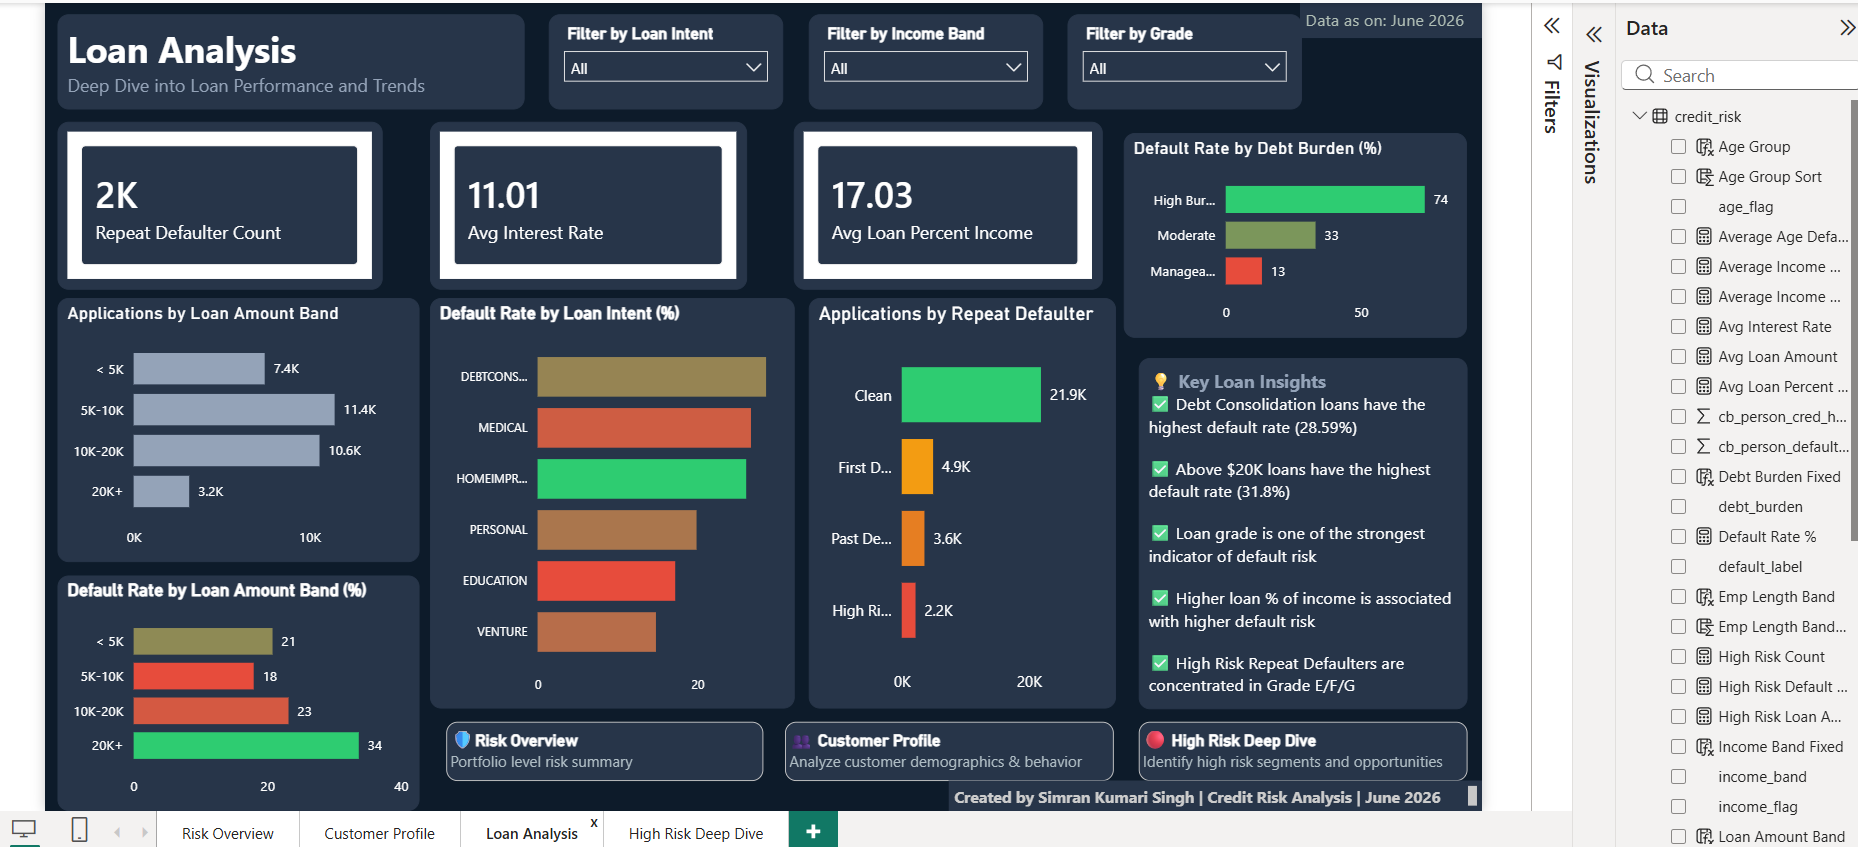

The page's visual inventory and layout, read from the dashboard file:
{"tool":"powerbi","page":{"name":"Loan Analysis","canvas":[1280,720],"ordinal":2},"visuals":[{"type":"textbox","box":[10.9,9.7,416.2,84.5],"z":0},{"type":"slicer","fields":{"Values":["credit_risk.loan_intent"]},"box":[448.8,9.7,208.7,84.5],"z":1000},{"type":"slicer","fields":{"Values":["credit_risk.Income Band Fixed"]},"box":[680.4,9.7,208.7,84.5],"z":2000},{"type":"slicer","fields":{"Values":["credit_risk.loan_grade"]},"box":[910.9,9.7,208.7,84.5],"z":3000},{"type":"cardVisual","fields":{"Data":["credit_risk.Avg Interest Rate"]},"box":[342.6,106.2,282.3,149.6],"z":4000},{"type":"cardVisual","fields":{"Data":["credit_risk.Avg Loan Percent Income"]},"box":[667.2,106.2,275.1,149.6],"z":5000},{"type":"cardVisual","fields":{"Data":["credit_risk.Repeat Defaulter Count"]},"box":[10.9,106.2,289.5,149.6],"z":6000},{"type":"clusteredBarChart","title":"Default Rate by Loan Intent (%)","fields":{"Category":["credit_risk.loan_intent"],"Y":["credit_risk.Default Rate %"]},"box":[342.6,263,324.5,365.6],"z":7000},{"type":"clusteredBarChart","title":"Applications by Loan Amount Band","fields":{"Category":["credit_risk.Loan Amount Band"],"Y":["credit_risk.Total Applications"]},"box":[10.9,263,322.1,235.3],"z":8000},{"type":"clusteredBarChart","title":"Default Rate by Loan Amount Band (%)","fields":{"Category":["credit_risk.Loan Amount Band"],"Y":["credit_risk.Default Rate %"]},"box":[10.9,510.3,322.1,209.9],"z":9000},{"type":"textbox","box":[973.6,316.1,293.2,312.5],"z":10000},{"type":"actionButton","title":"🛡️Risk Overview","box":[357.1,640.6,282.3,53.1],"z":11000},{"type":"actionButton","title":"🔴 High Risk Deep Dive","box":[973.6,640.6,293.2,53.1],"z":12000},{"type":"actionButton","title":"👥 Customer Profile","box":[658.7,640.6,293.2,53.1],"z":13000},{"type":"clusteredBarChart","title":"Default Rate by Debt Burden (%)","fields":{"Category":["credit_risk.Debt Burden Fixed"],"Y":["credit_risk.Default Rate %"]},"box":[960.3,115.8,305.2,182.2],"z":14000},{"type":"clusteredBarChart","title":"Applications by Repeat Defaulter","fields":{"Category":["credit_risk.repeat_defaulter"],"Y":["credit_risk.Total Applications"]},"box":[680.4,263,273.9,365.6],"z":15000},{"type":"textbox","box":[804.7,691.9,475.6,27.9],"z":16000},{"type":"textbox","box":[1117.2,0,162.9,31.4],"z":17000}]}

Visuals, with their boxes on the page's 1280x720 design canvas (x1, y1, x2, y2). These are canvas units, not pixel positions in the 1858x847 screenshot, which may show the page scaled, cropped or inside an application window:
textbox: [11, 10, 427, 94]
slicer - credit_risk.loan_intent: [449, 10, 658, 94]
slicer - credit_risk.Income Band Fixed: [680, 10, 889, 94]
slicer - credit_risk.loan_grade: [911, 10, 1120, 94]
cardVisual - credit_risk.Avg Interest Rate: [343, 106, 625, 256]
cardVisual - credit_risk.Avg Loan Percent Income: [667, 106, 942, 256]
cardVisual - credit_risk.Repeat Defaulter Count: [11, 106, 300, 256]
"Default Rate by Loan Intent (%)" clusteredBarChart: [343, 263, 667, 629]
"Applications by Loan Amount Band" clusteredBarChart: [11, 263, 333, 498]
"Default Rate by Loan Amount Band (%)" clusteredBarChart: [11, 510, 333, 720]
textbox: [974, 316, 1267, 629]
"🛡️Risk Overview" actionButton: [357, 641, 639, 694]
"🔴 High Risk Deep Dive" actionButton: [974, 641, 1267, 694]
"👥 Customer Profile" actionButton: [659, 641, 952, 694]
"Default Rate by Debt Burden (%)" clusteredBarChart: [960, 116, 1266, 298]
"Applications by Repeat Defaulter" clusteredBarChart: [680, 263, 954, 629]
textbox: [805, 692, 1280, 720]
textbox: [1117, 0, 1280, 31]
